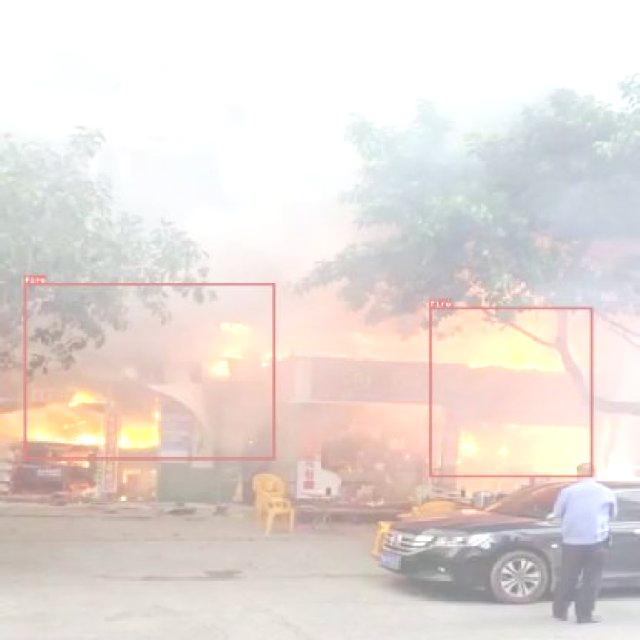fire: (22, 283, 275, 459), (428, 306, 592, 477)
